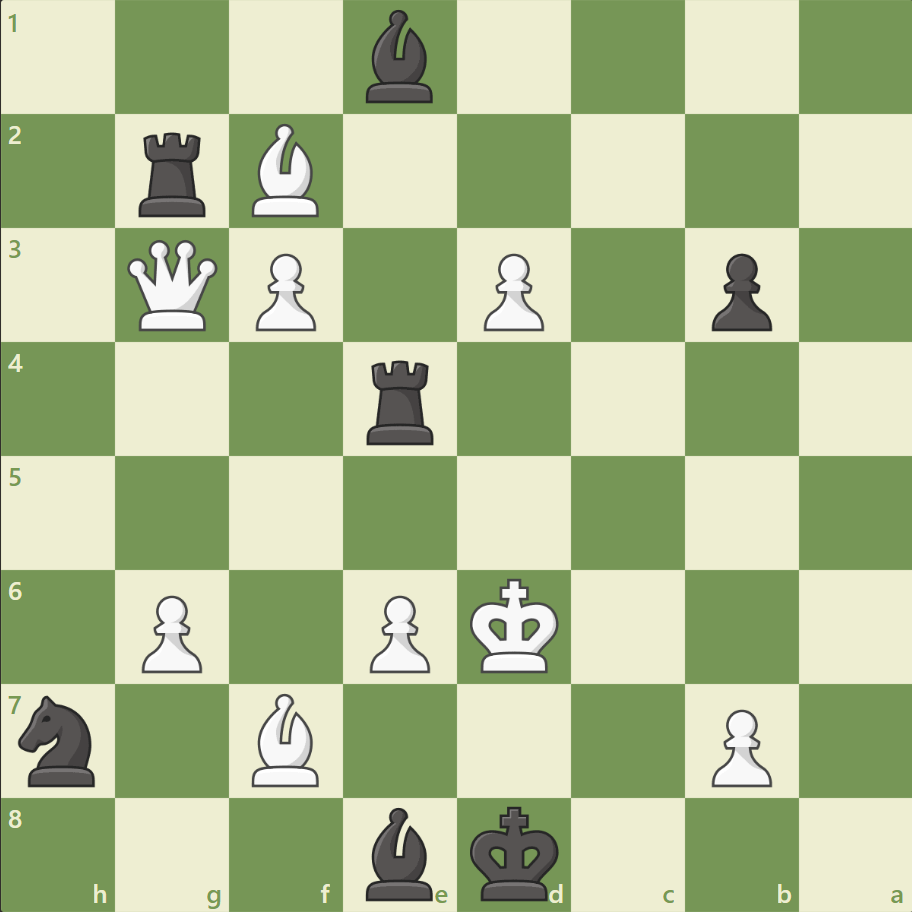B: (244, 687, 328, 790), (244, 120, 328, 222)
K: (465, 571, 565, 679)
P: (701, 700, 776, 791), (133, 586, 208, 677), (474, 246, 549, 337), (247, 246, 322, 337), (361, 586, 435, 677)
Q: (124, 236, 223, 335)
b: (358, 801, 442, 904), (358, 6, 442, 109)
k: (465, 798, 565, 906)
n: (11, 688, 108, 791)
p: (701, 246, 776, 337)
r: (360, 352, 442, 449), (133, 125, 215, 222)
